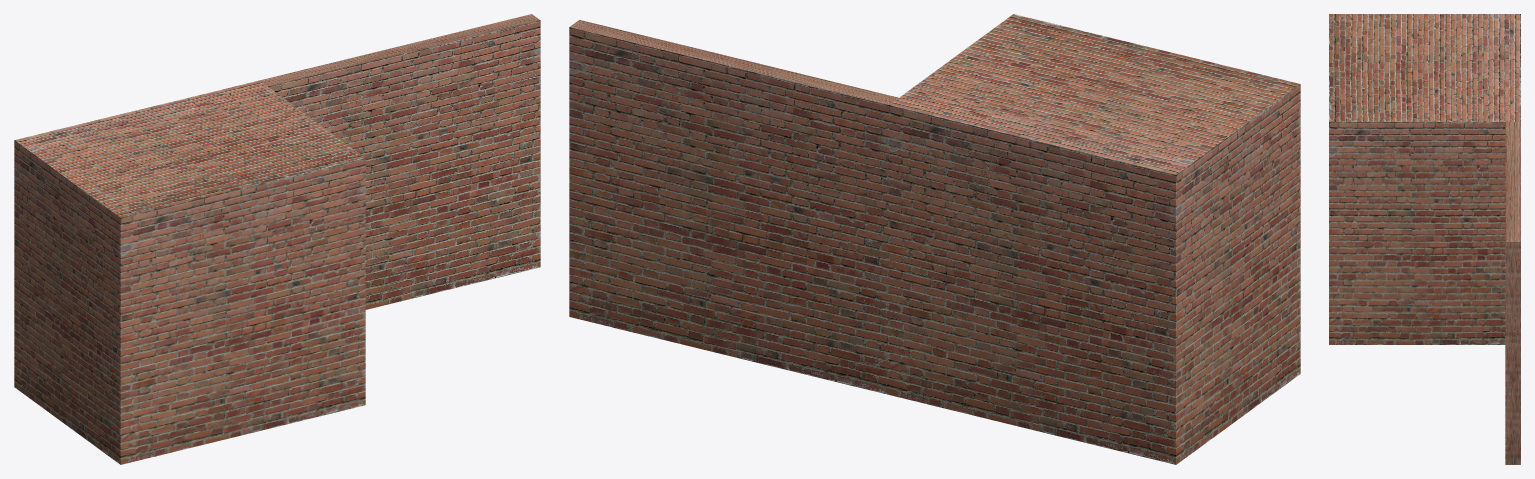
File: Wall structure.FBX
The picture shows the model from 3 angles, left to right: view 1: azimuth 30°, elevation 25°; view 2: azimuth 150°, elevation 25°; view 3: azimuth 270°, elevation 25°; orthographic projection. The views are drawn at different scales.
Visible parts, largest first — view 1: Wall structure; view 2: Wall structure; view 3: Wall structure.
Part boxes in pixels (x1,y1,x2,y2): Wall structure: [14, 14, 540, 464]; Wall structure: [569, 14, 1300, 464]; Wall structure: [1329, 14, 1520, 464].
Size of the model in its own units: 597 by 272 by 212.
Materials: 1 (1 with a texture image).
